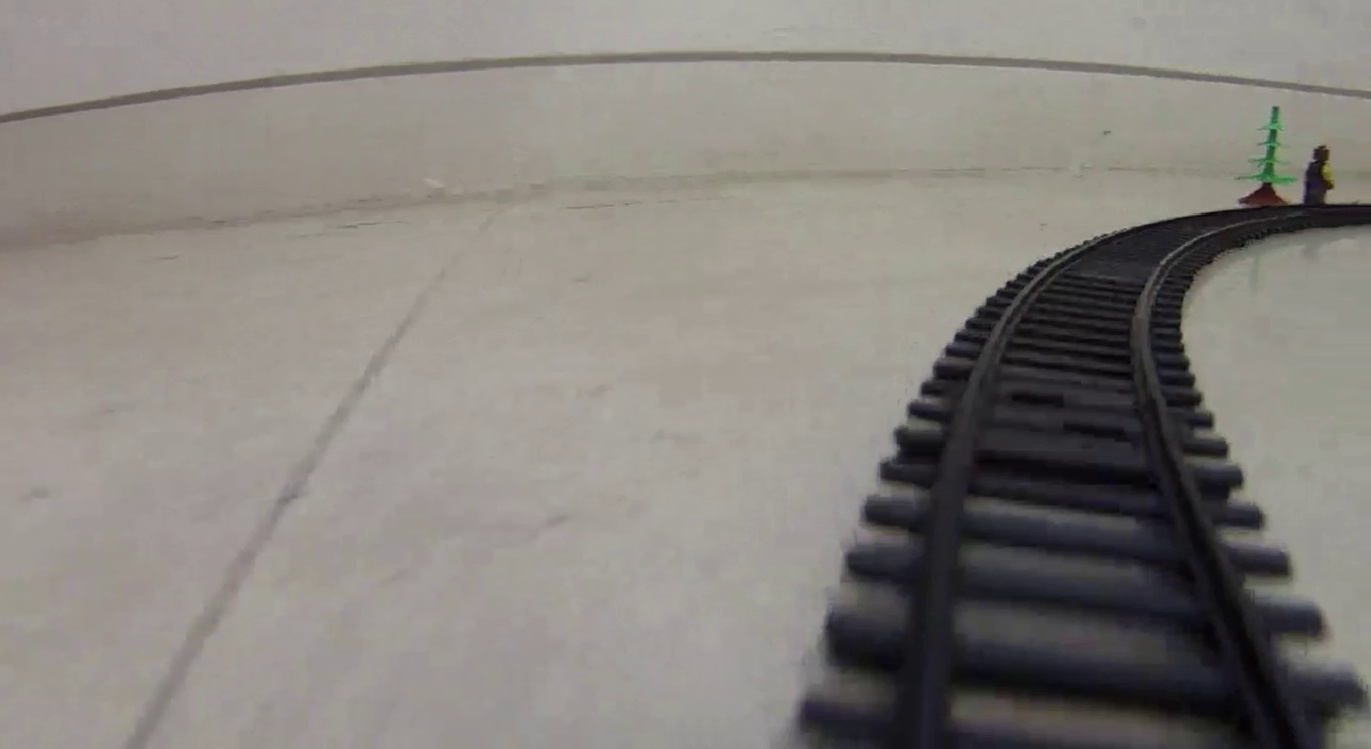people: (1303, 140, 1334, 207)
tree: (1237, 104, 1298, 204)
